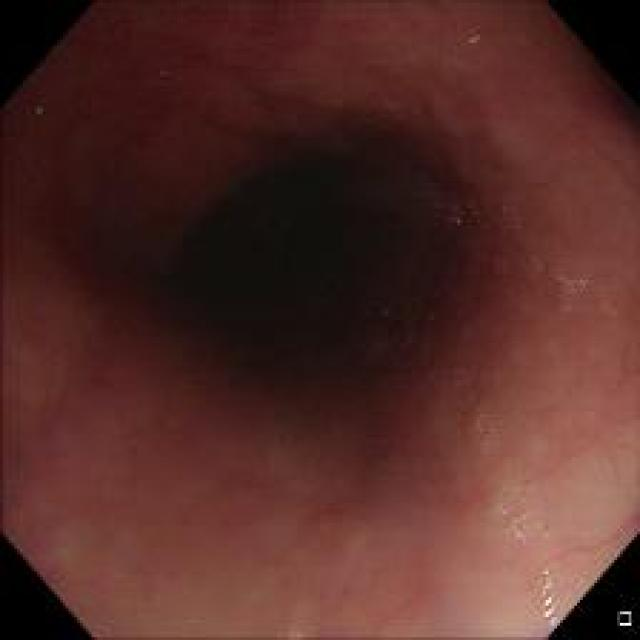bubbles: (468, 391, 575, 622), (538, 248, 621, 339)
color misalignment: (498, 504, 534, 545), (538, 579, 562, 628), (442, 209, 464, 226)
contrast: (138, 106, 490, 420)
